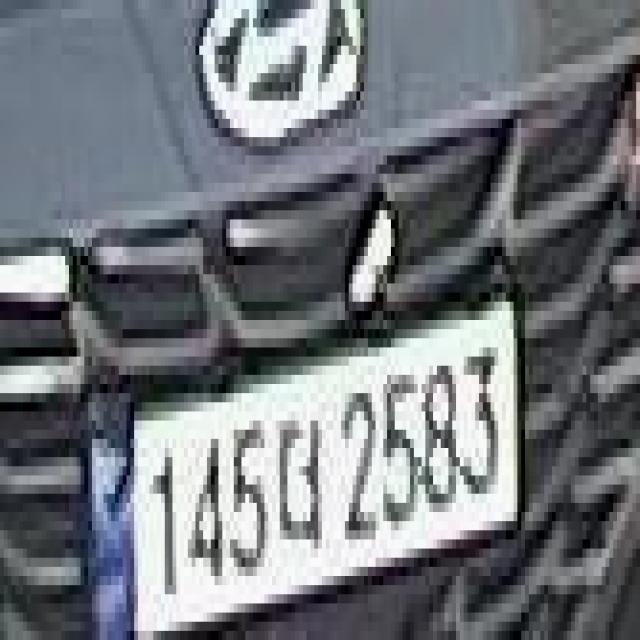illegal_plate: (102, 306, 529, 638)
